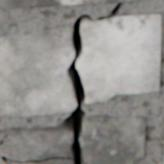brick: (0, 0, 137, 7)
broken_brick: (76, 14, 160, 102), (0, 26, 76, 115), (80, 114, 145, 163), (0, 124, 73, 159), (8, 157, 73, 163), (0, 156, 9, 163)
crack: (0, 1, 123, 163)
